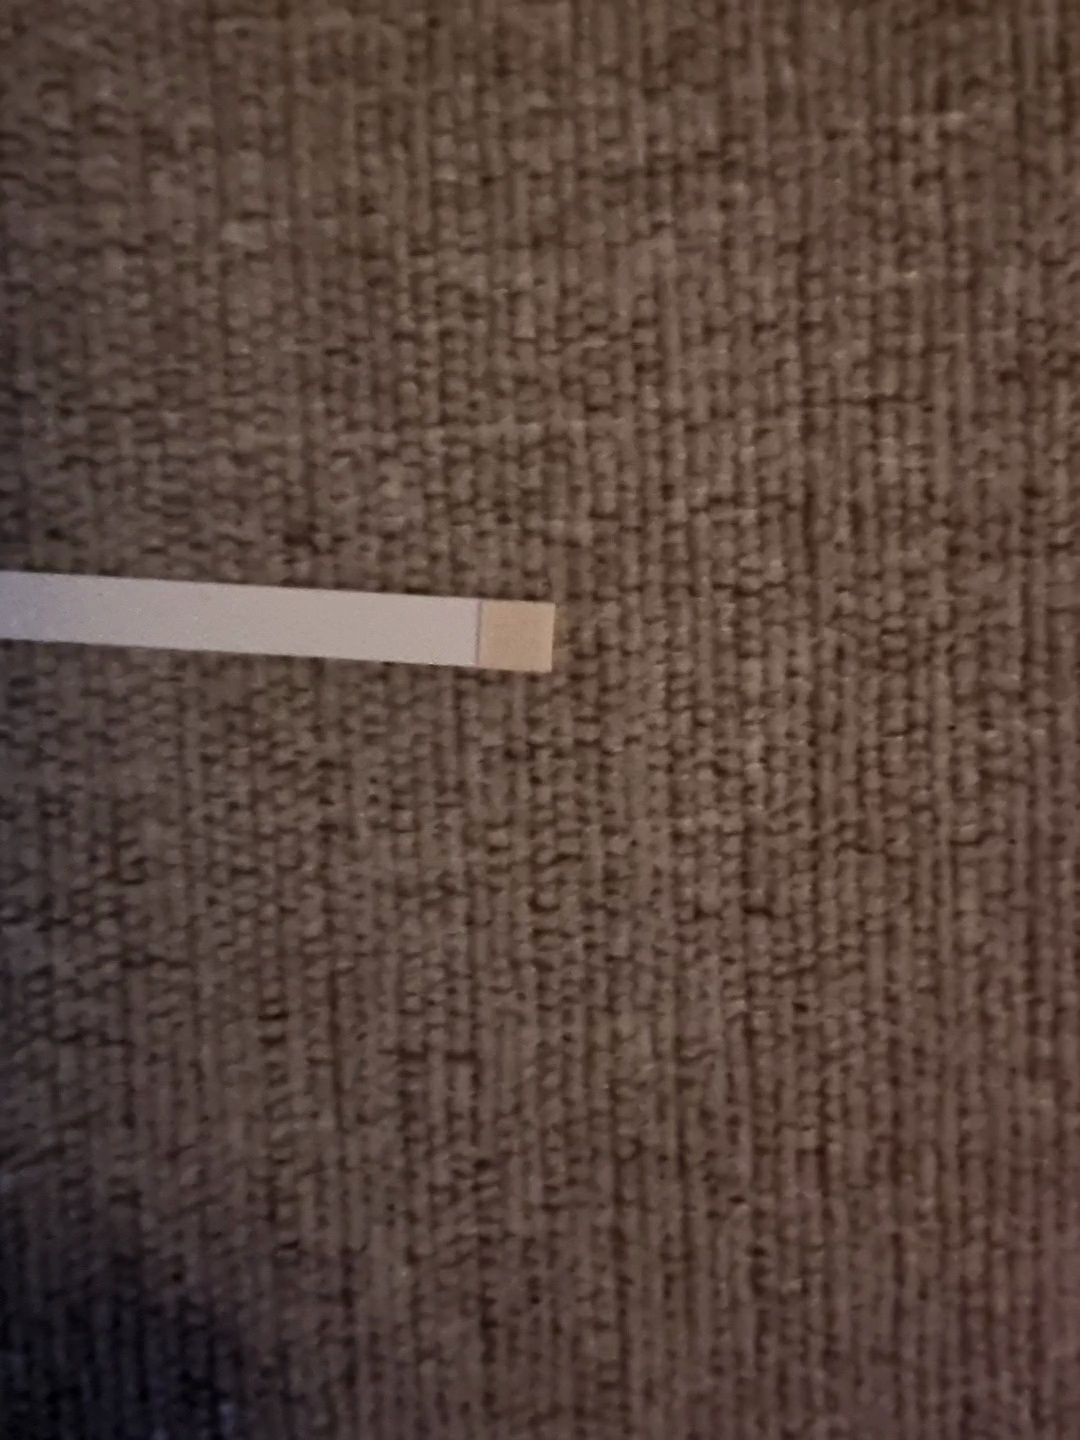keto-tip: (470, 591, 562, 678)
